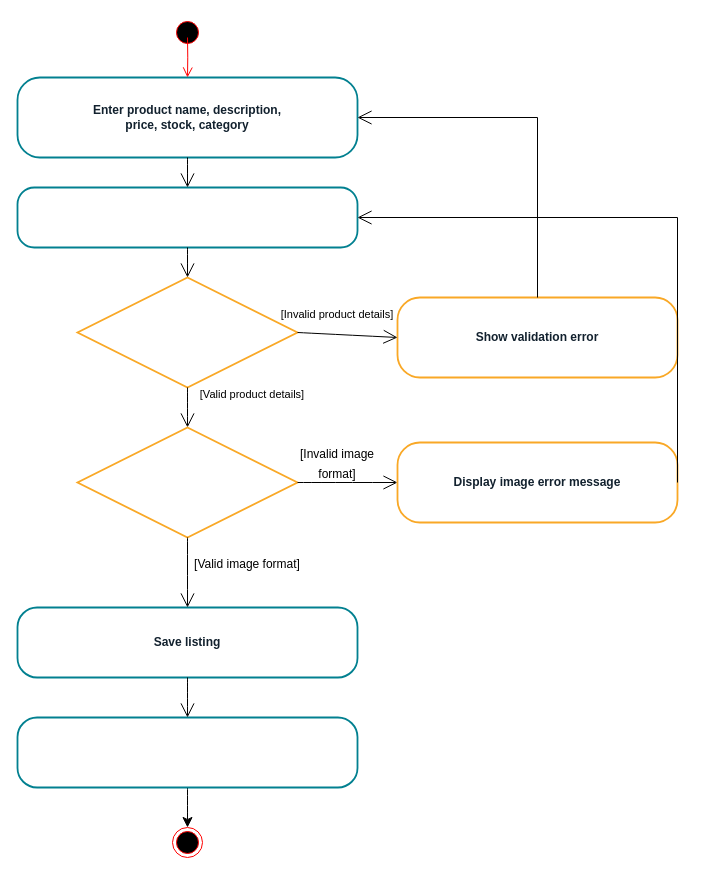
The diagram is 710 pixels wide and 875 high, and some of its shapes have lost their labels. The centre of each missing label's shape, as x and y in pixels:
"Publish listing to buyer-facing catalog" goes at [187,752].
"Upload product images" goes at [187,217].
